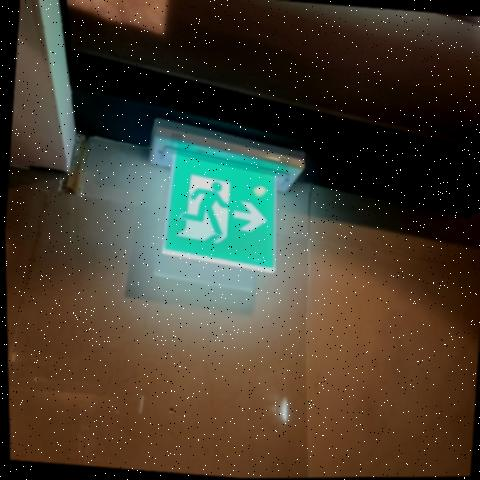emergency_exit: (126, 116, 307, 309), (148, 119, 306, 275), (160, 144, 280, 273)
